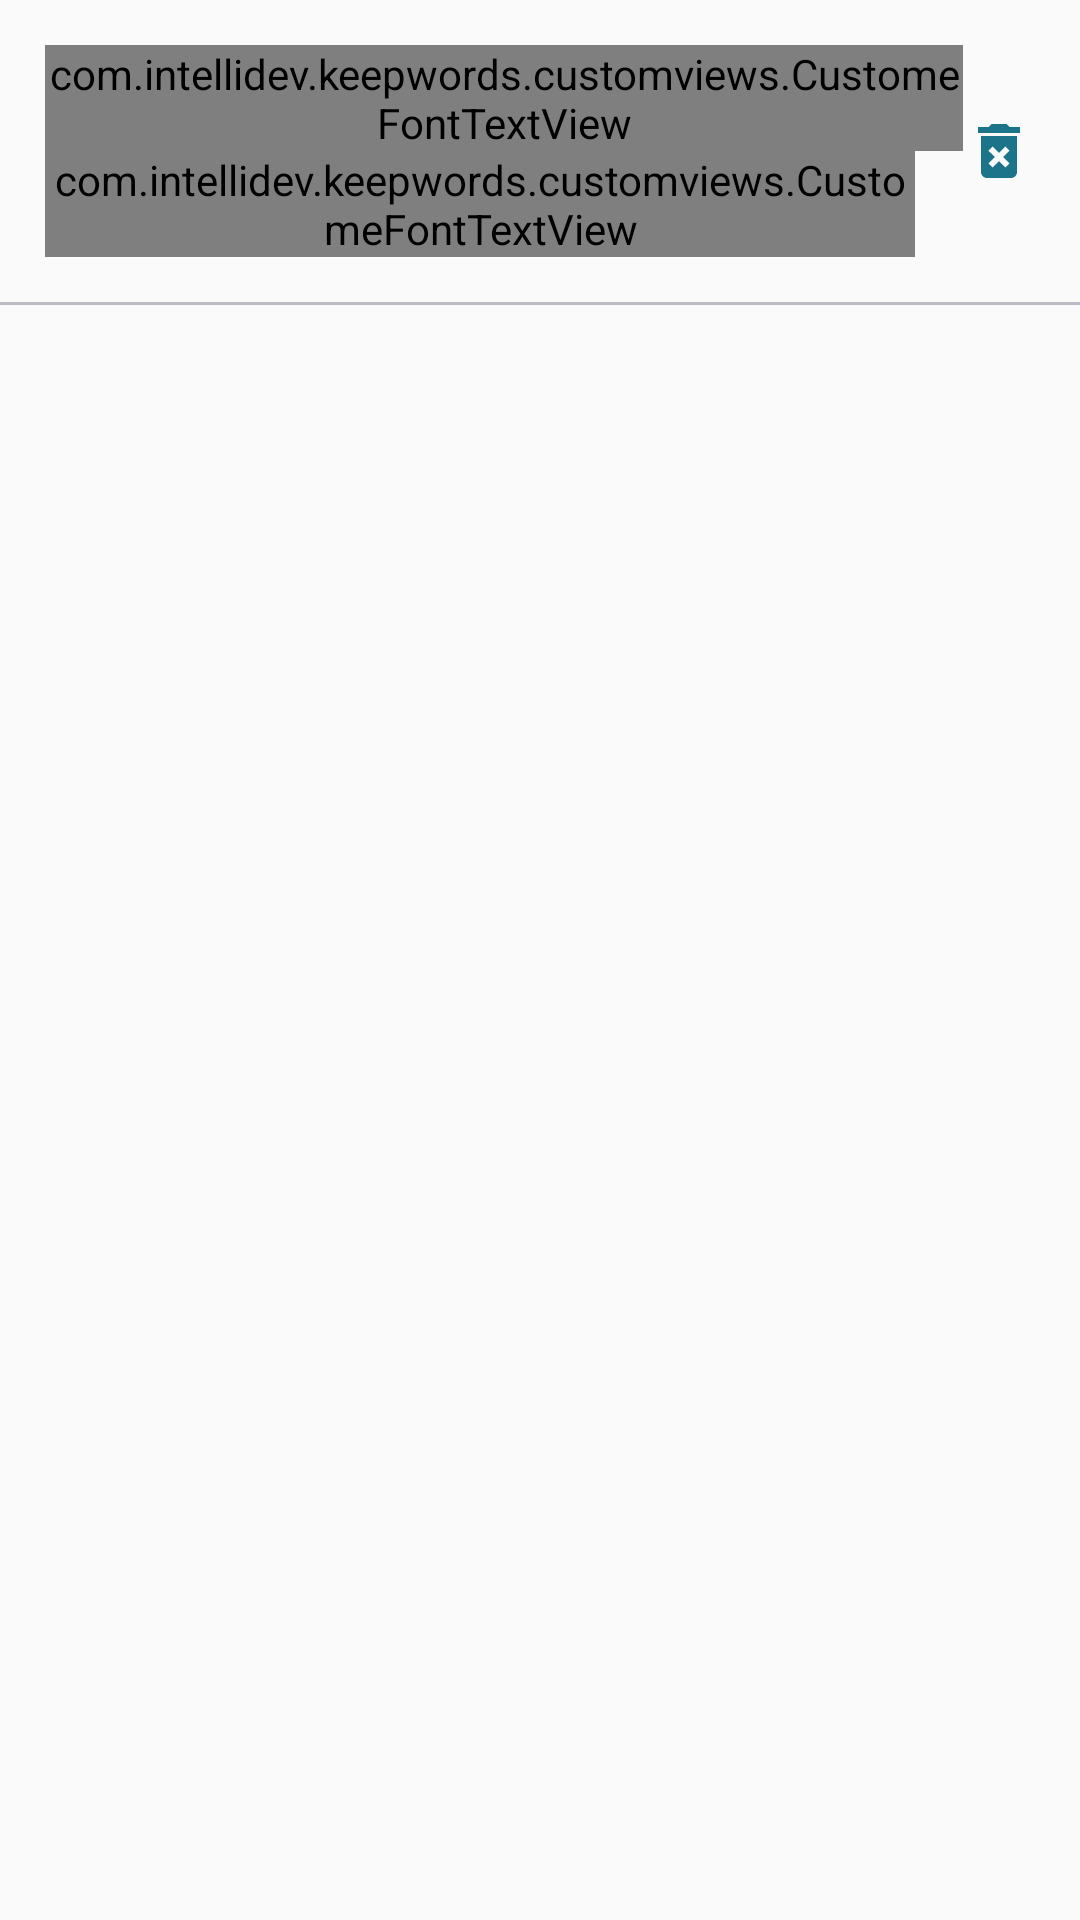

Icons on this 1080px×1920px Android screen, each with the point to tap as (x,y):
delete forever: (999,151)
